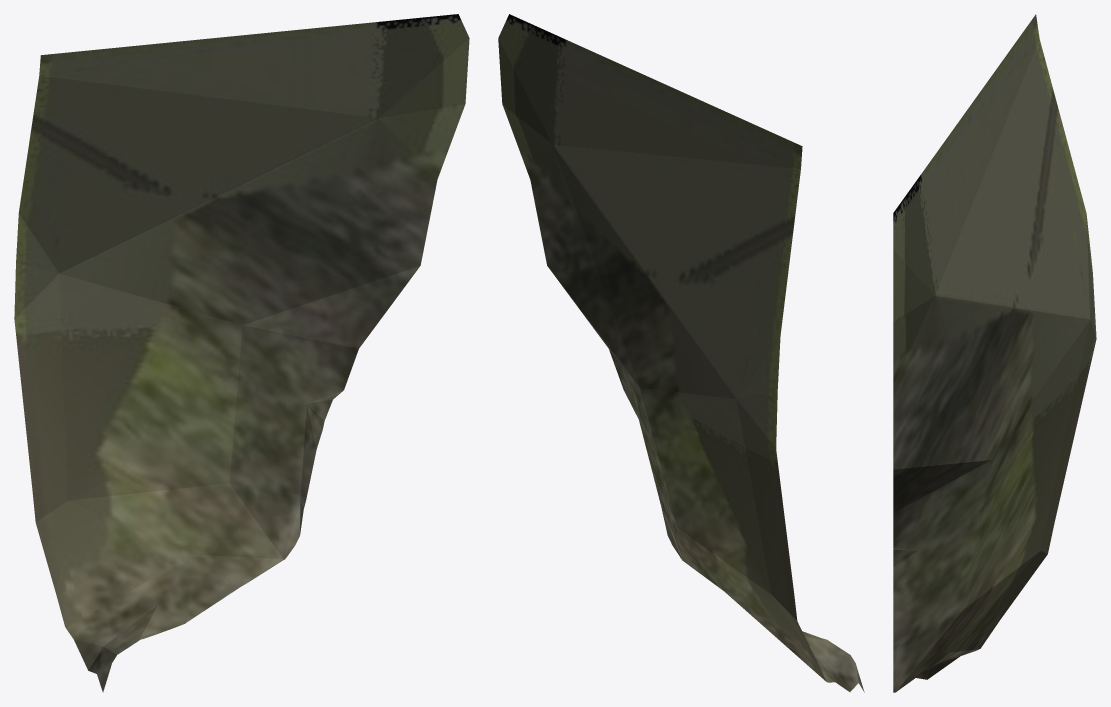
3 renders of one model, left to right at view 1: azimuth 30°, elevation 25°; view 2: azimuth 150°, elevation 25°; view 3: azimuth 270°, elevation 25°, orthographic. The views are drawn at different scales.
Bounding box in the file's own units: 3.74 × 5.78 × 1.57.
Materials: 2 (2 with a texture image).
